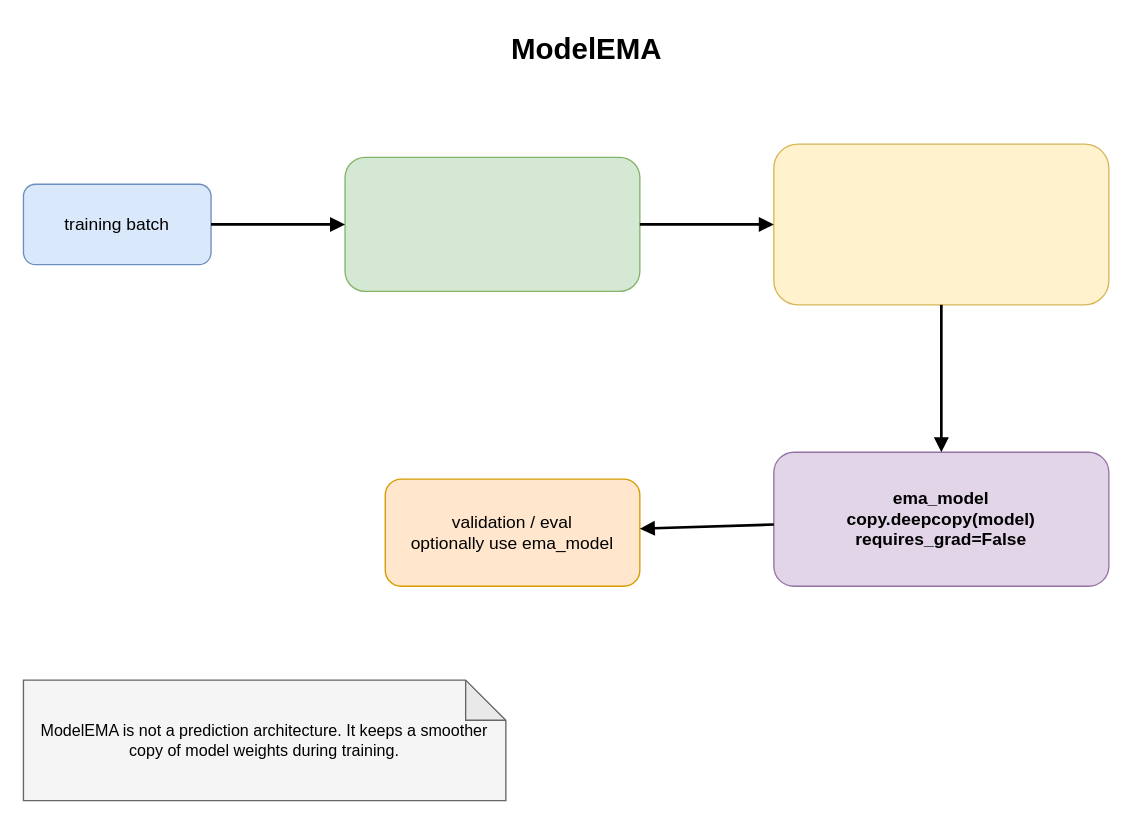
Image size: 1132x824. Some labels were removed from this diagram. Each missing label, with the centre of its shape:
ema.update(model) floating params: ema = decay * ema + (1-decay) * model: the point at 941,224
train model backprop + optimizer.step(): the point at 492,223
